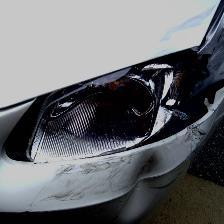head_lamp: (29, 30, 204, 182)
